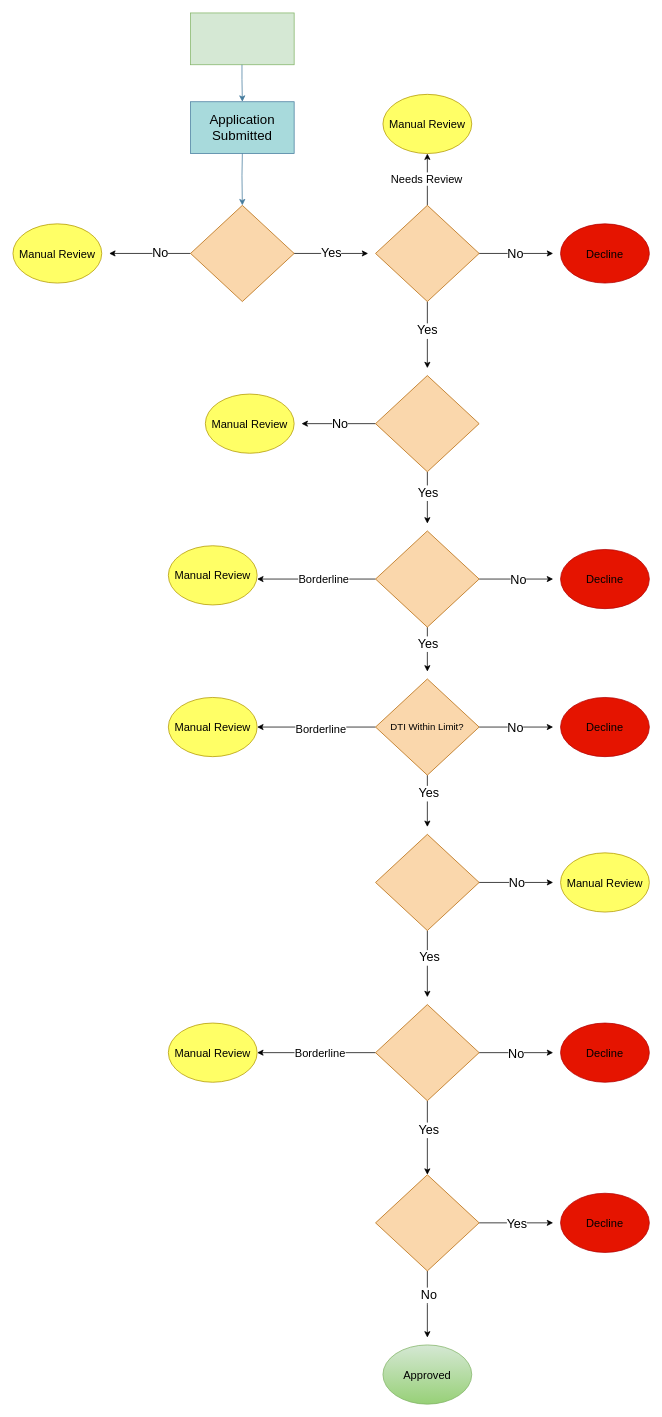
The diagram is 662 pixels wide and 1417 high, and some of its shapes have lost their labels. Each missing label, with the box of its shape:
Any Hard Stop Policy Trigger?: (375, 1174, 479, 1271)
CLTV Within Limit?: (375, 530, 479, 627)
Credit Risk Band Eligible?: (375, 1004, 479, 1101)
Identity / KYC Fraud Check Pass?: (375, 205, 479, 302)
Income Confidence Acceptable?: (375, 834, 479, 931)
Property Valuation Acceptable?: (375, 375, 479, 472)
Required Data Complete?: (190, 205, 294, 302)
Start: (190, 12, 294, 65)
